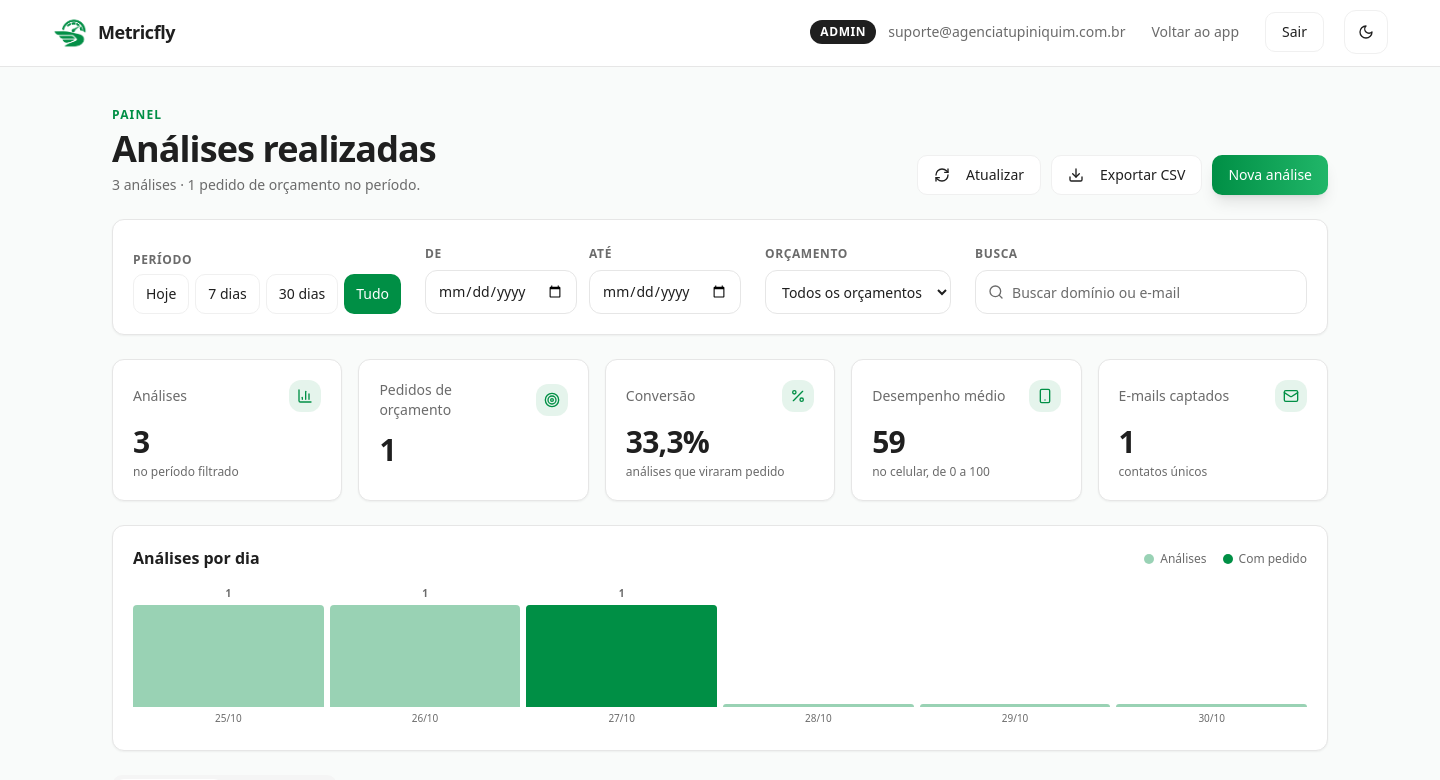
Agency admin area › narrows the cards, the table and the contacts to a date range
Type "2026-10-27" into the date field named "Data inicial".
click(501, 292); type("2026-10-27")  # box [425, 270, 577, 314]
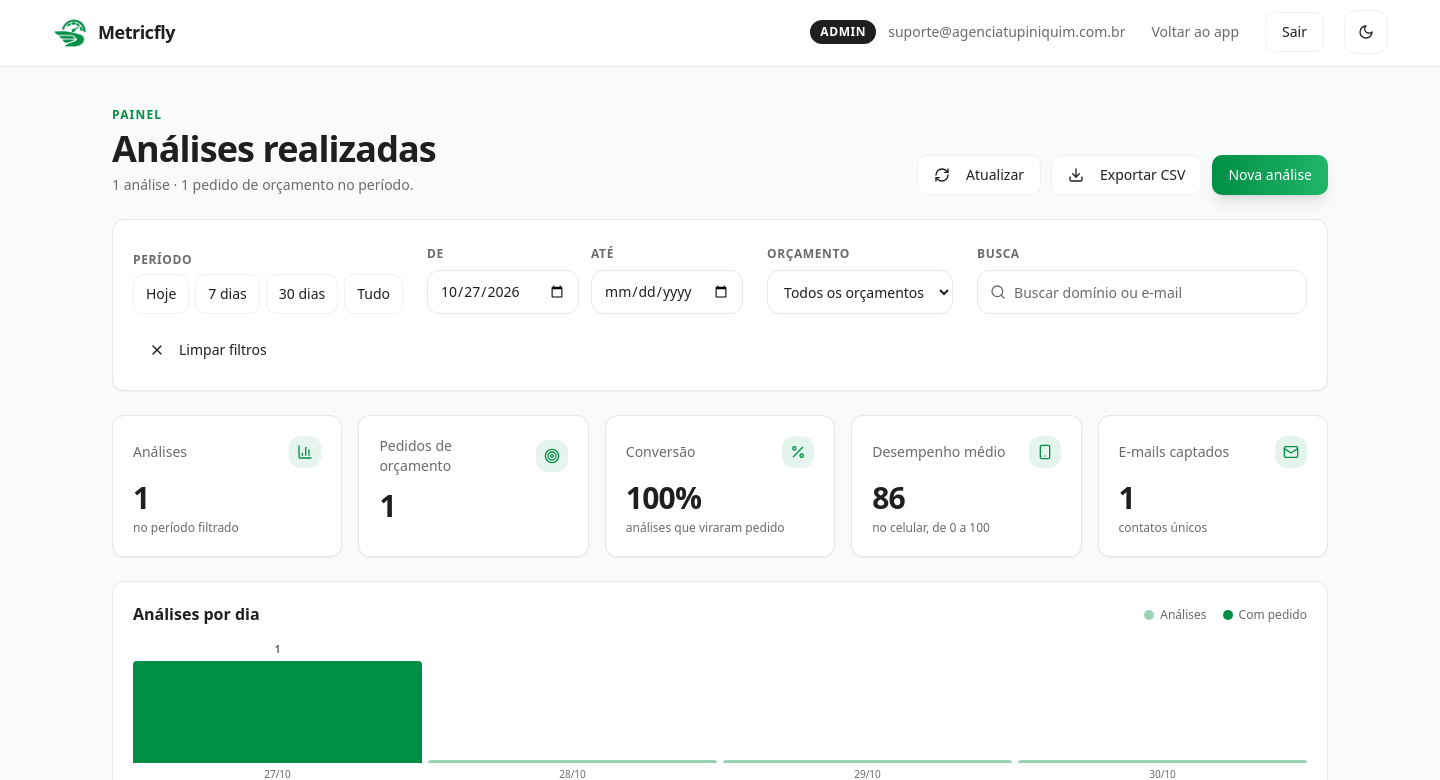
Type "2026-10-27" into the date field named "Data final".
click(667, 292); type("2026-10-27")  # box [591, 270, 743, 314]
(page scrolled)
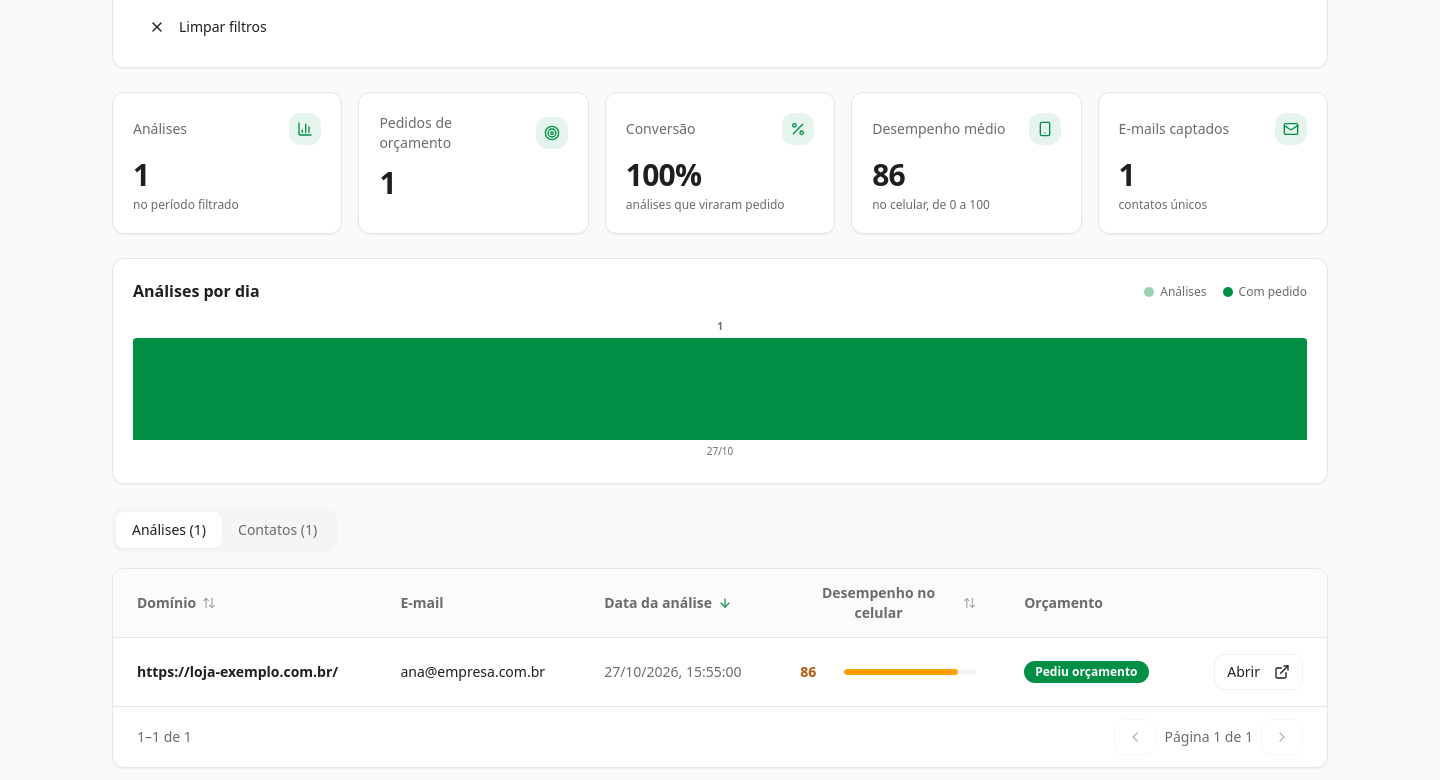
Expected: the text "https://loja-exemplo.com.br/" is shown, [113, 638, 376, 706]
Expected: the text "https://clinica-exemplo.com.br/" is not shown
Press the mouse on the tab "Contatos (1)" at (278, 530), box [222, 512, 333, 548]
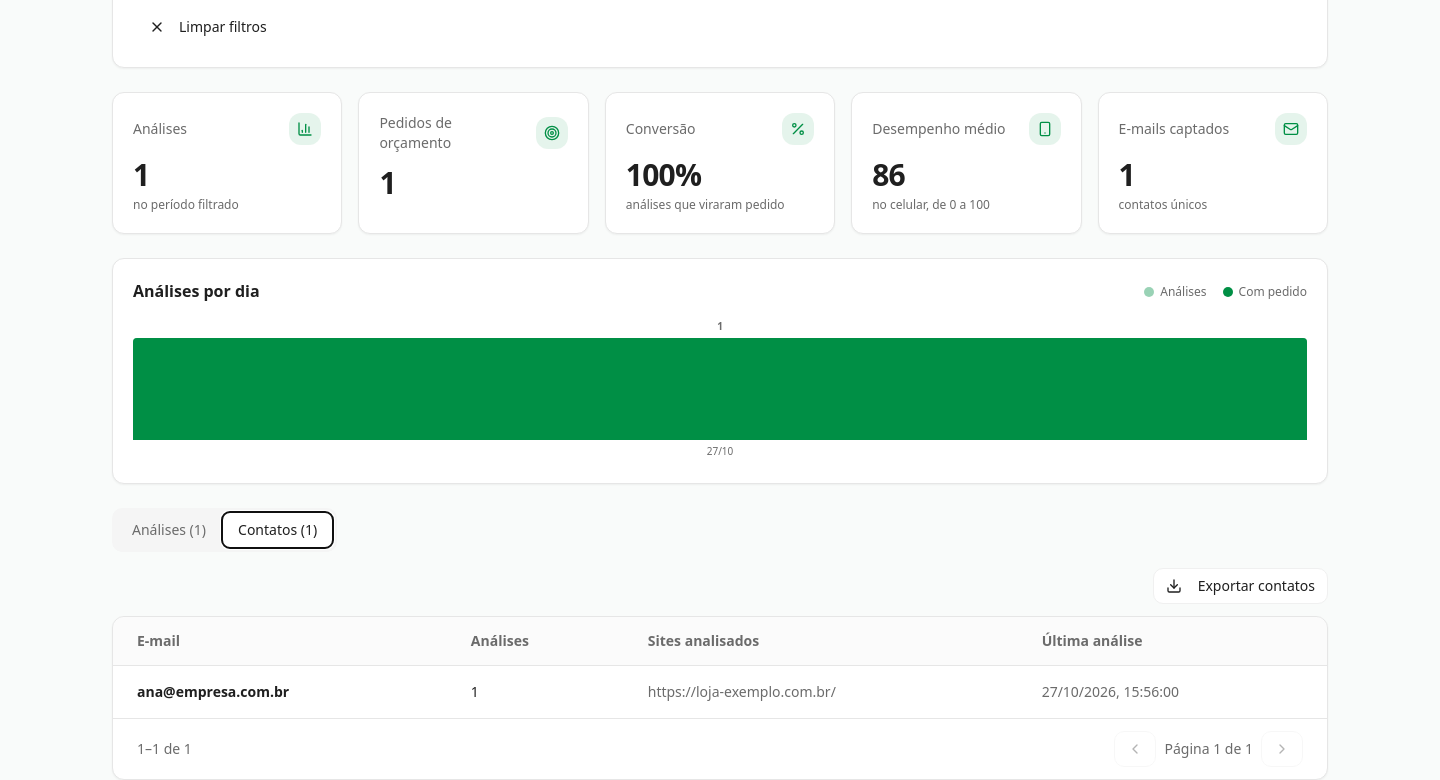
Now the text "ana@empresa.com.br" shows "https://loja-exemplo.com.br/", box [648, 682, 836, 701]
Now the text "ana@empresa.com.br" does not show "clinica-exemplo", box [113, 666, 1327, 718]
Click the button "Limpar filtros".
click(208, 27)  # box [133, 7, 283, 47]
(page scrolled)
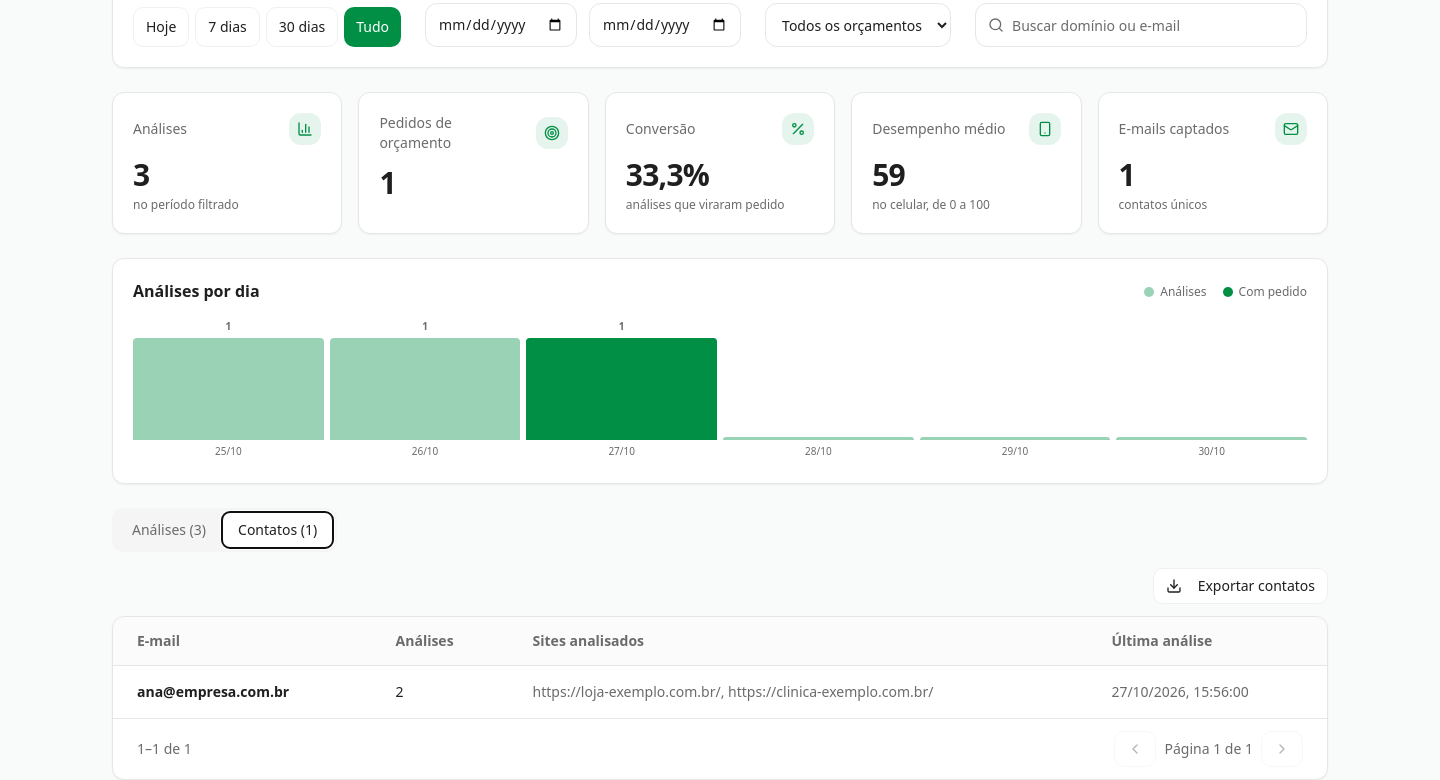
Now the date field named "Data inicial" is empty, box [425, 3, 577, 47]
